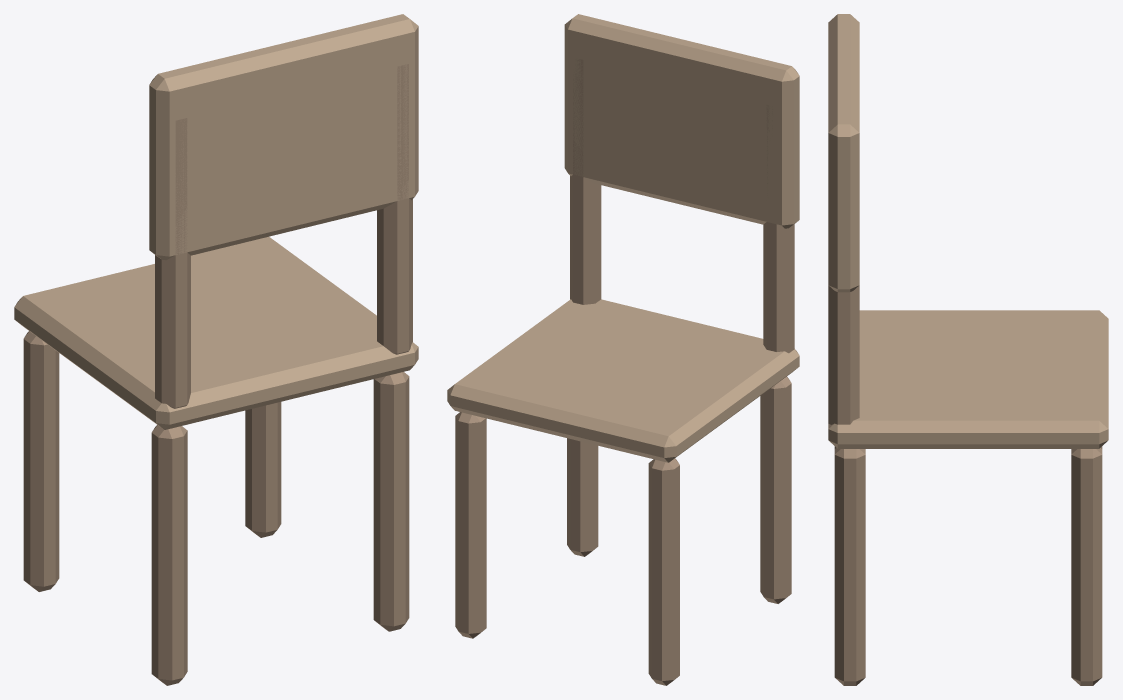
The model's file is bed_moveis_cadeira.glb.
3 renders of one model, left to right at view 1: azimuth 30°, elevation 25°; view 2: azimuth 150°, elevation 25°; view 3: azimuth 270°, elevation 25°, orthographic. The views are drawn at different scales.
Visible parts, largest first — view 1: BED_Moveis_Cadeira_v01; view 2: BED_Moveis_Cadeira_v01; view 3: BED_Moveis_Cadeira_v01.
Part boxes in pixels (x1,y1,x2,y2): BED_Moveis_Cadeira_v01: (14,14,418,685); BED_Moveis_Cadeira_v01: (447,14,799,685); BED_Moveis_Cadeira_v01: (828,14,1108,685).
Size of the model in its own units: 0.45 by 1 by 0.45.
